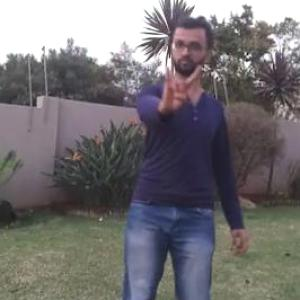takeoff-hand: (158, 56, 202, 113)
